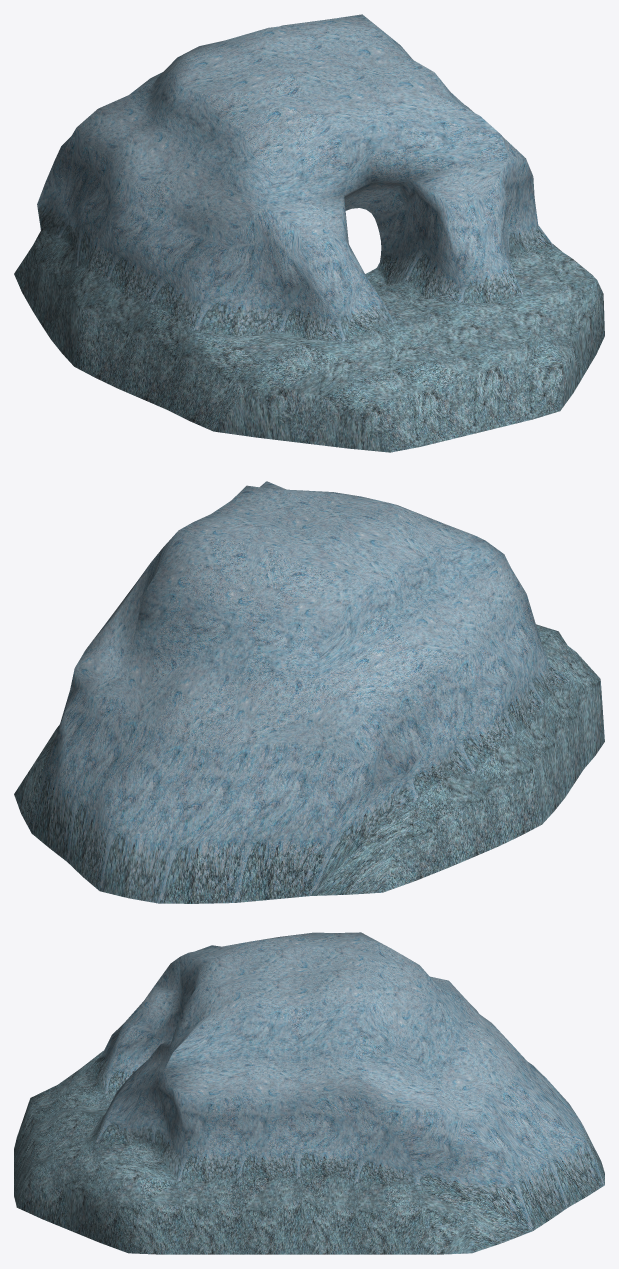
The model's file is thm_all_cave_flatland_s01_ice_r0_mesh_l1.fbx.
3 views of the same model, one above another, from view 1: azimuth 30°, elevation 25°; view 2: azimuth 150°, elevation 25°; view 3: azimuth 270°, elevation 25° (orthographic). The views are drawn at different scales.
Parts seen in each view (by area): view 1: mesh_node; view 2: mesh_node; view 3: mesh_node.
Part boxes in pixels (box(x1,y1,x2,y2)): mesh_node: box(14, 14, 604, 452); mesh_node: box(14, 481, 604, 903); mesh_node: box(14, 932, 604, 1254).
Size of the model in its own units: 56.42 by 31.43 by 78.78.
